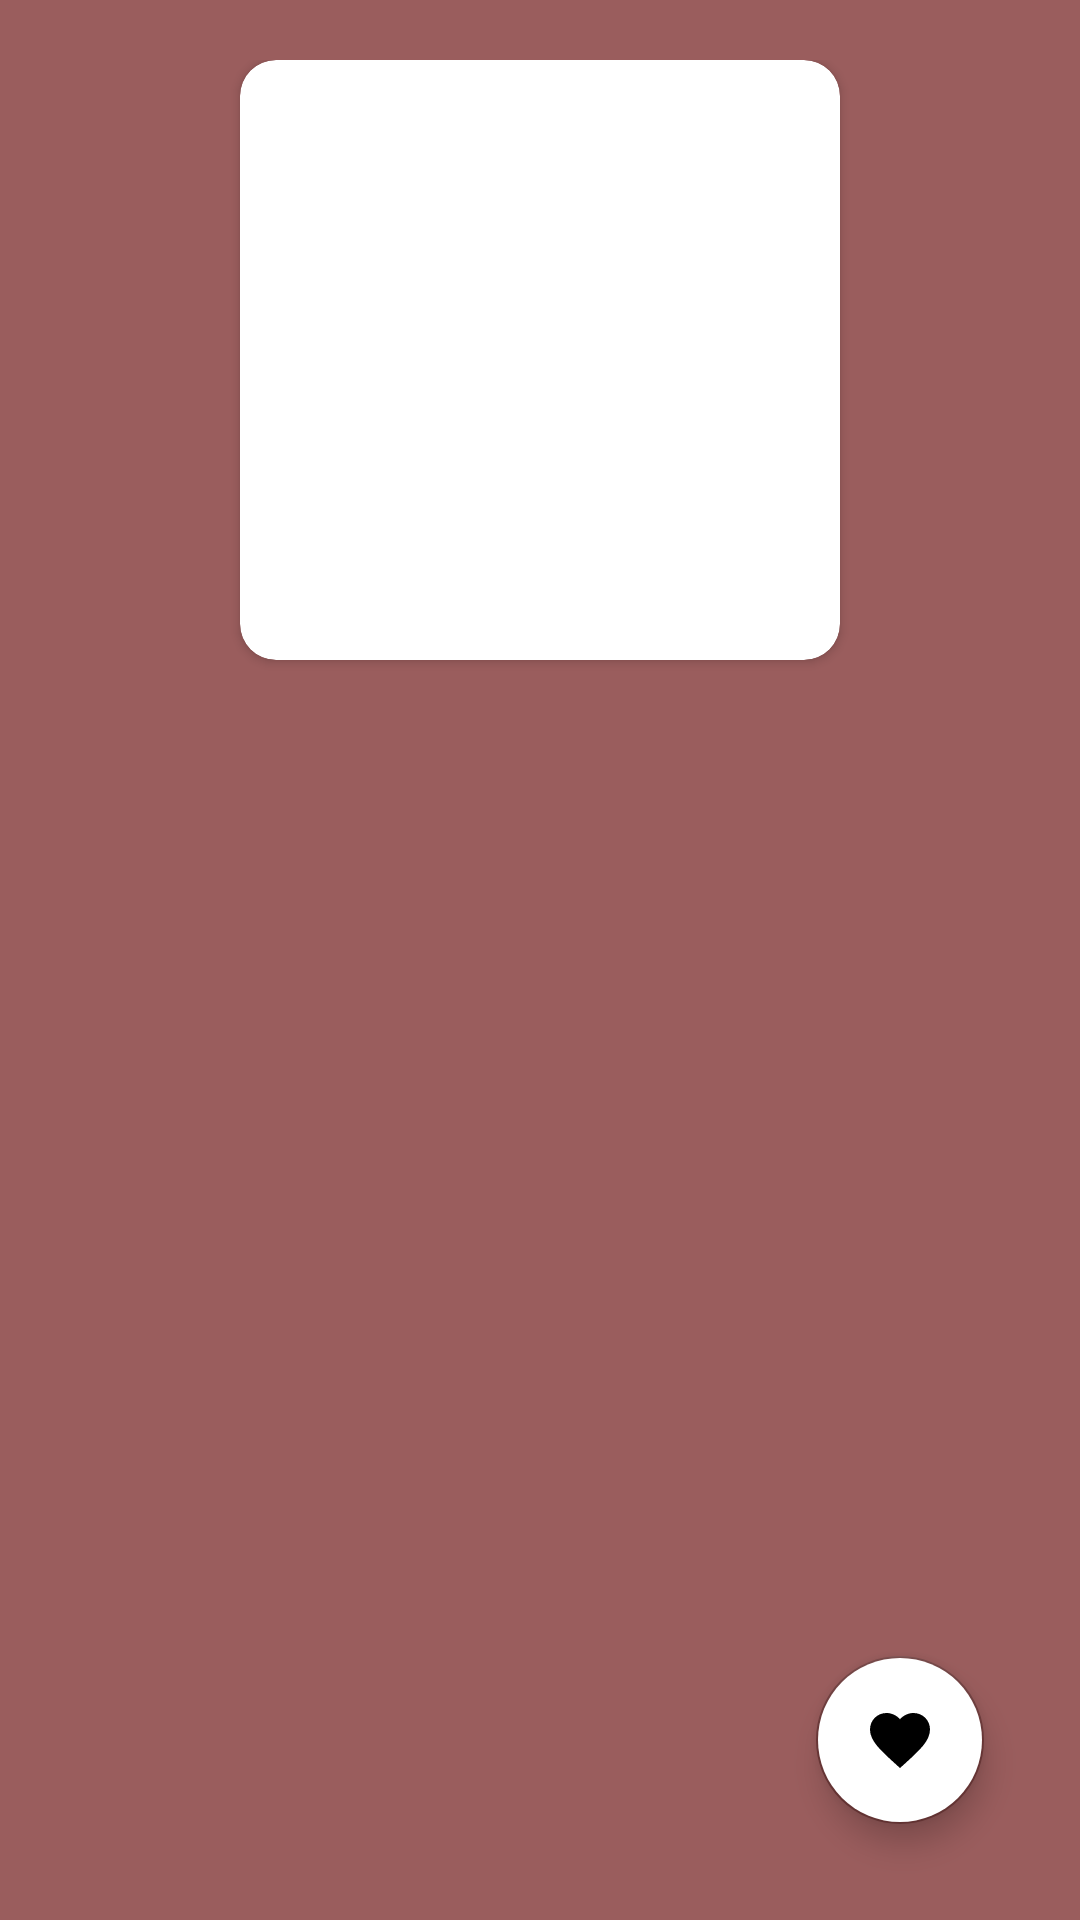

Locate icon controls on the screen. Image size 1080px×1920px, boxes as (x1, y1, x2, y2).
Add to favorites: (816, 1656, 984, 1824)
